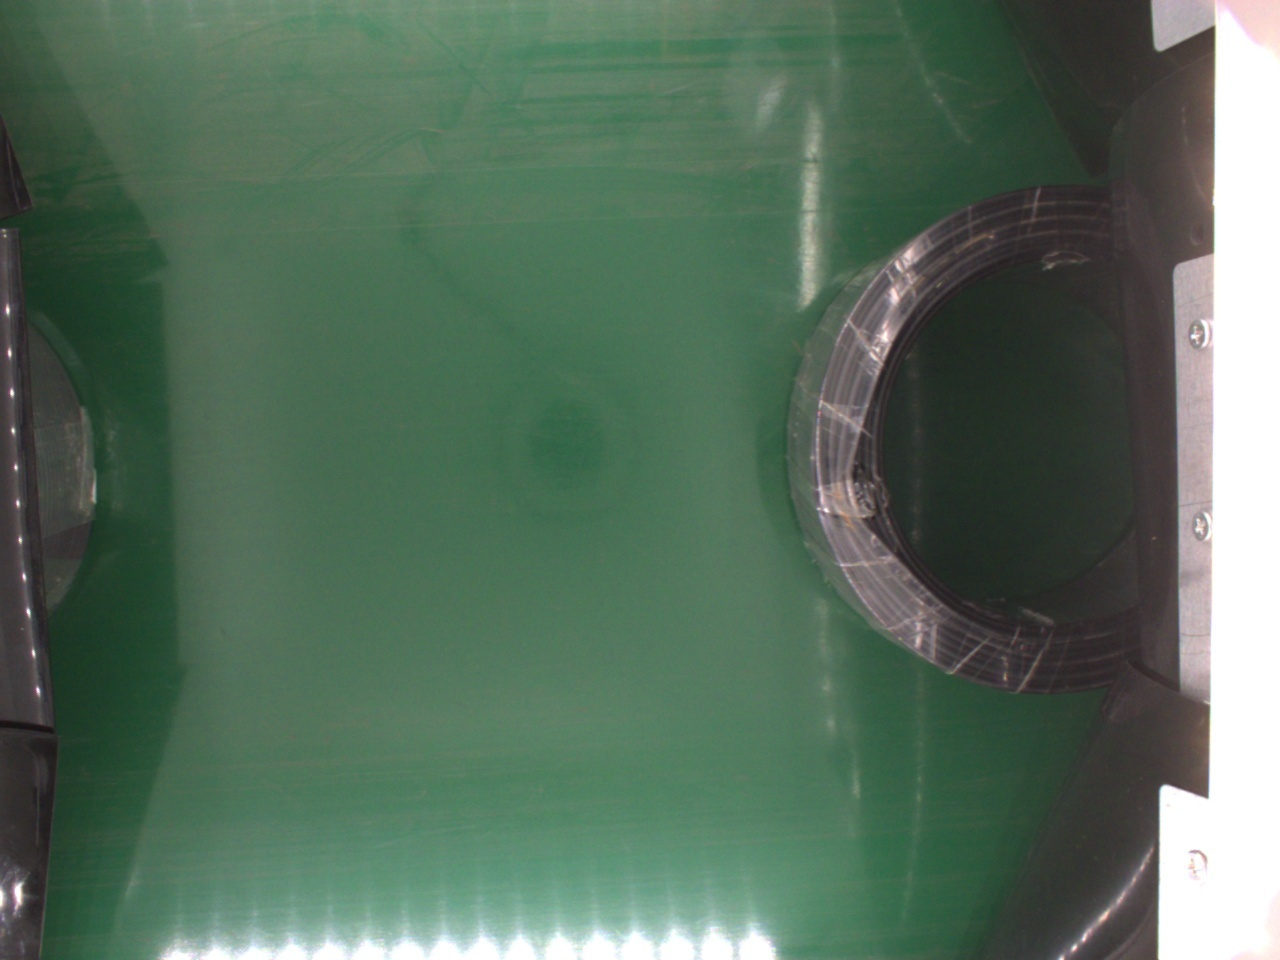black: (785, 187, 1156, 694)
